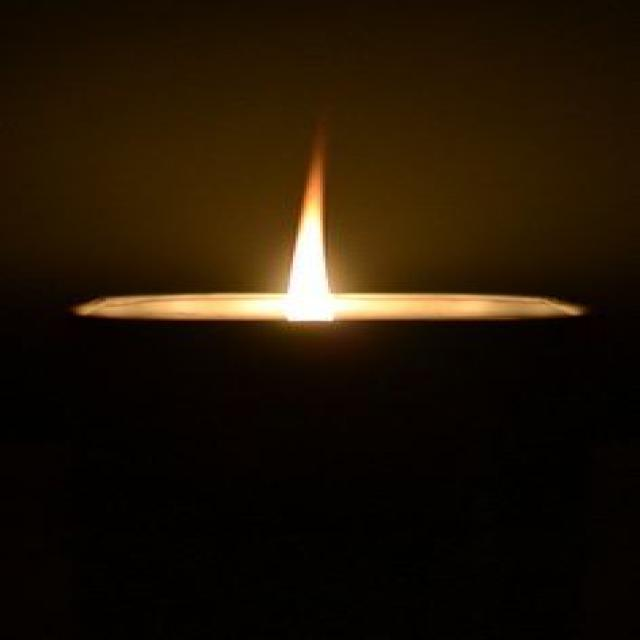Fire: (254, 102, 382, 326)
